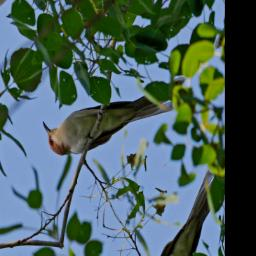Cuckoo: (37, 15, 195, 205)
